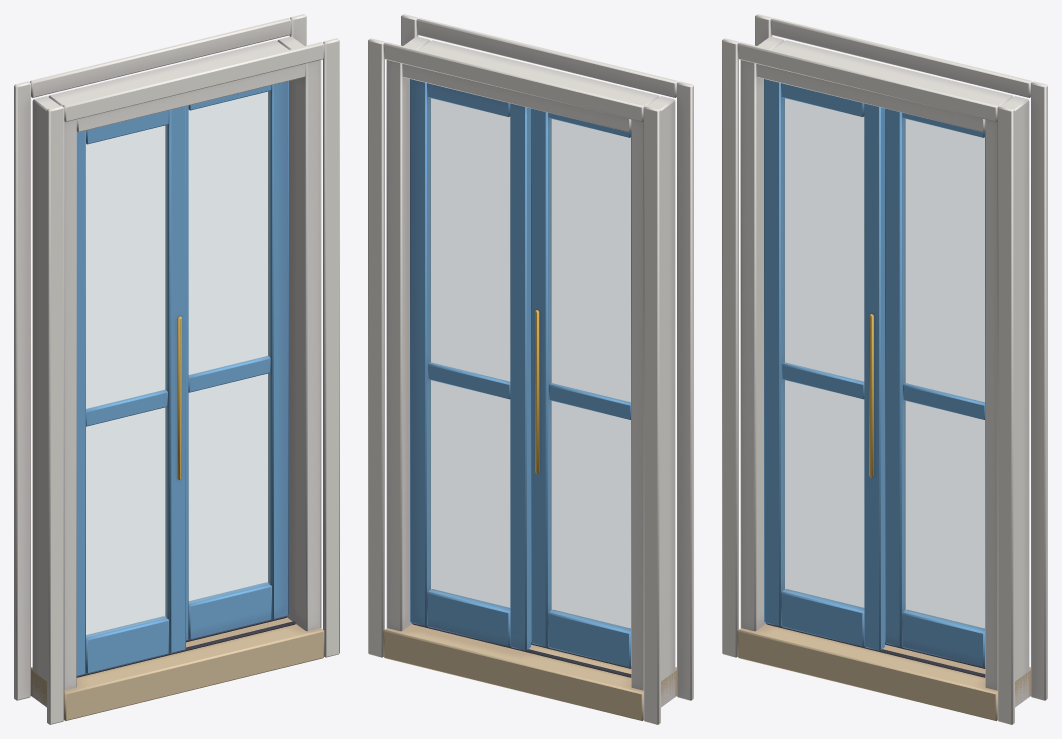
File: sliding-door.glb
3 renders of one model, left to right at view 1: azimuth 30°, elevation 25°; view 2: azimuth 150°, elevation 25°; view 3: azimuth 330°, elevation 25°, orthographic.
Visible parts, largest first — view 1: sliding-door_body, sliding-door_glass_fixed, sliding-door_glass_slide, sliding-door_slide; view 2: sliding-door_body, sliding-door_glass_slide, sliding-door_glass_fixed, sliding-door_slide; view 3: sliding-door_body, sliding-door_glass_fixed, sliding-door_glass_slide, sliding-door_slide.
Boxes of the visible parts, x1,y1,x2,y2 form: sliding-door_body: [14, 14, 339, 724]; sliding-door_glass_fixed: [189, 91, 270, 603]; sliding-door_glass_slide: [86, 125, 167, 637]; sliding-door_slide: [76, 106, 185, 676]; sliding-door_body: [368, 14, 693, 724]; sliding-door_glass_slide: [549, 118, 630, 630]; sliding-door_glass_fixed: [428, 98, 509, 609]; sliding-door_slide: [531, 108, 631, 667]; sliding-door_body: [722, 14, 1047, 724]; sliding-door_glass_fixed: [903, 118, 984, 630]; sliding-door_glass_slide: [782, 98, 863, 609]; sliding-door_slide: [764, 79, 884, 650].
Size of the model in its own units: 1.12 by 2.26 by 0.24.
Materials: 4 (2 with a texture image).
